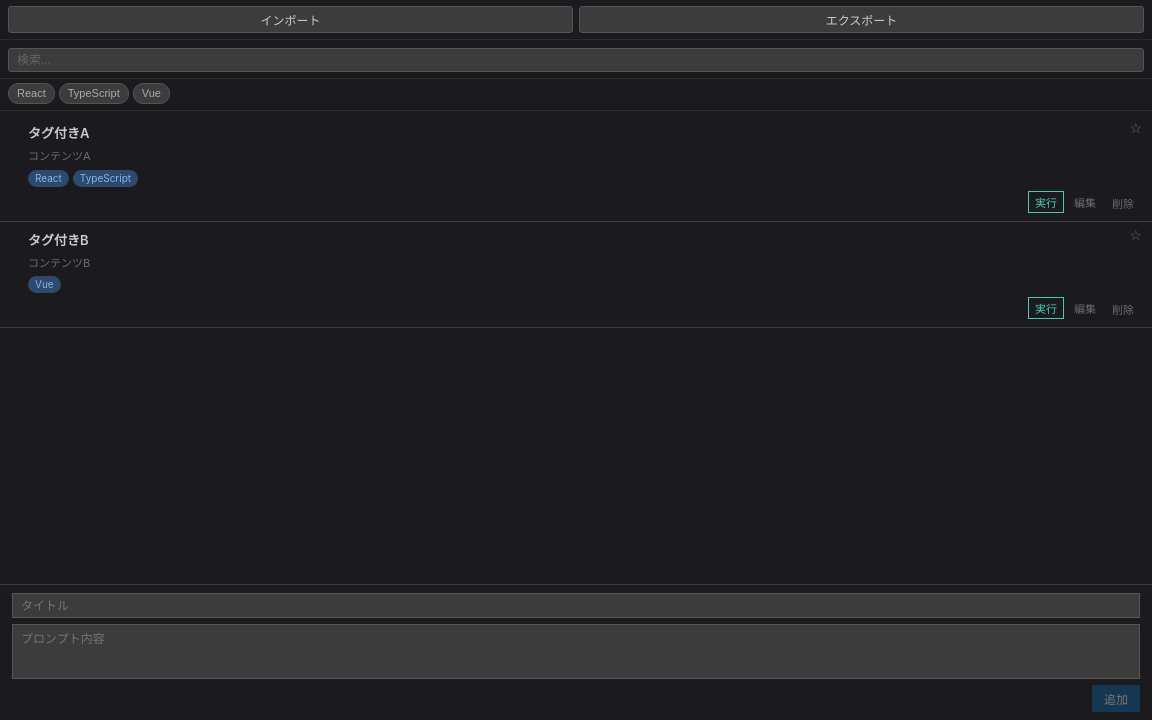
PromptsPanel › タグフィルター › タグフィルターで 0 件になったとき no-results メッセージが表示される
The image size is (1152, 720).
// React のみ持つ taggedPrompt と Vue のみ持つ otherTaggedPrompt を AND 選択 → 0 件
Click the button "React". click: (31, 94)
box: [8,83,55,104]
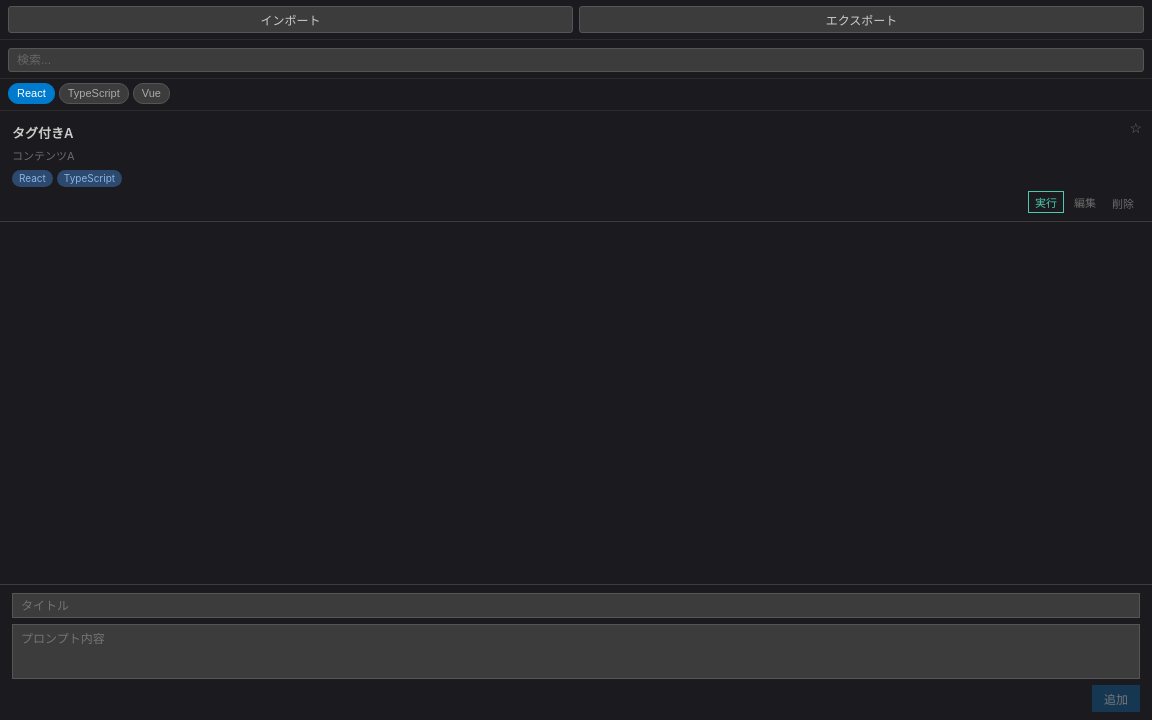
Click the button "Vue". click: (151, 94)
box: [133,83,170,104]
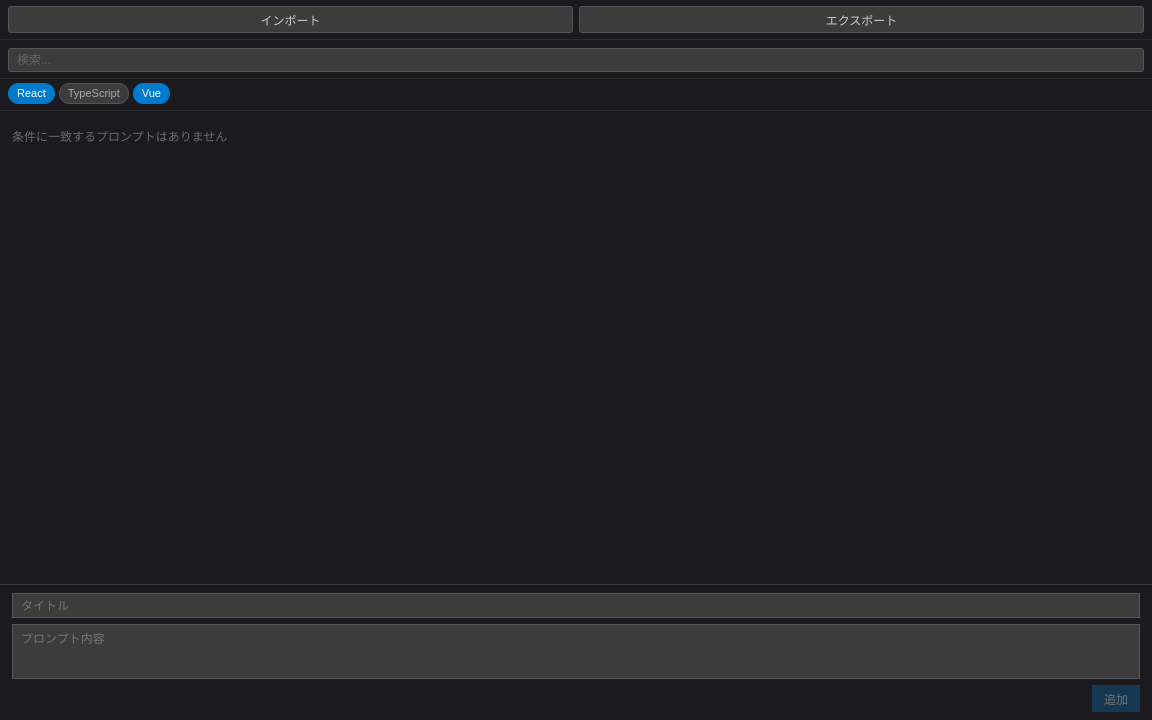
Now the text "条件に一致するプロンプトはありません" is shown, box [12,129,227,144]
